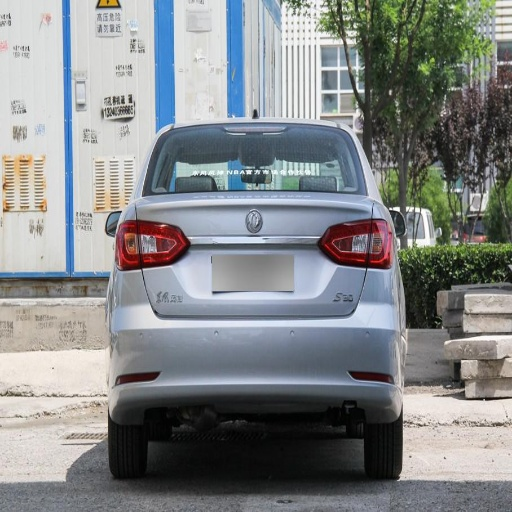back_bumper: (111, 268, 402, 413)
tailgate: (193, 192, 371, 317)
trunk: (140, 196, 256, 317)
